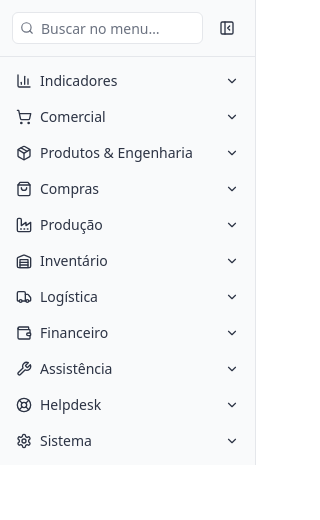
Test: GlobalSidebar › collapse toggle persists to localStorage and renders icon-only view
Click the button with test id "sidebar-collapse-toggle".
click(227, 28)  # box [211,12,243,44]
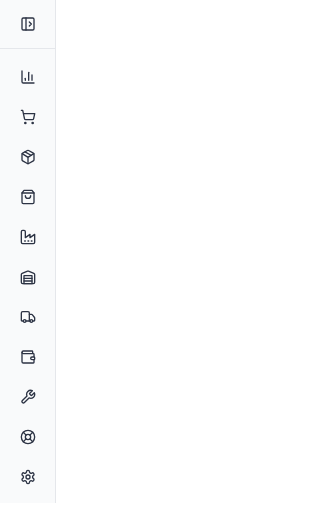
Result: the element with test id "global-sidebar" has attribute data-collapsed="1" at [0,0,56,503]
